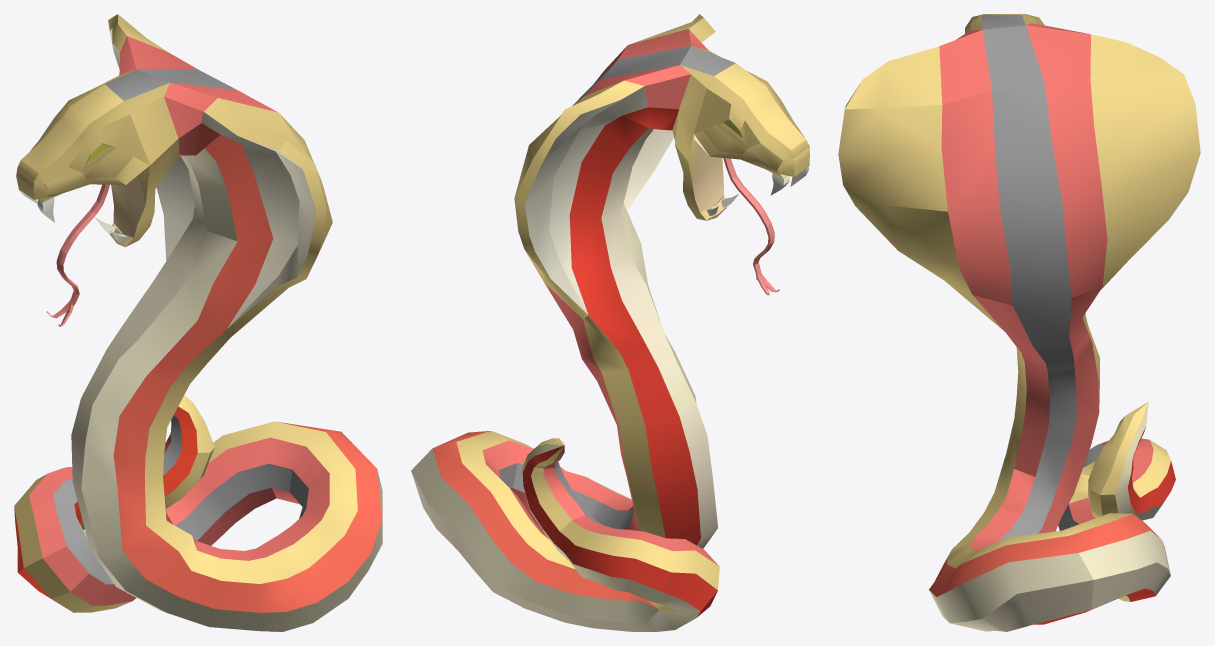
Rendered from cobra.glb.
The picture shows the model from 3 angles, left to right: view 1: azimuth 30°, elevation 25°; view 2: azimuth 150°, elevation 25°; view 3: azimuth 270°, elevation 25°; orthographic projection. The views are drawn at different scales.
Parts seen in each view (by area): view 1: Object_4, Object_13, Object_7, Object_12, Object_2, Object_8, Object_16, Object_11, Object_9, Object_6, Object_5, Object_14 (+2 smaller); view 2: Object_4, Object_15, Object_16, Object_12, Object_7, Object_6, Object_13, Object_2, Object_10, Object_11, Object_9, Object_5 (+3 smaller); view 3: Object_4, Object_12, Object_2, Object_7, Object_16, Object_13, Object_15, Object_10.
Boxes of the visible parts, x1,y1,x2,y2 form: Object_4: (14, 14, 357, 612); Object_13: (113, 123, 381, 612); Object_7: (81, 148, 382, 631); Object_12: (29, 36, 329, 605); Object_2: (53, 69, 308, 584); Object_8: (201, 112, 316, 328); Object_16: (71, 156, 277, 631); Object_11: (17, 70, 169, 184); Object_9: (68, 114, 149, 178); Object_6: (110, 28, 196, 260); Object_5: (110, 166, 149, 244); Object_14: (74, 406, 197, 523); Object_4: (456, 14, 809, 611); Object_15: (522, 107, 717, 617); Object_16: (411, 128, 717, 631); Object_12: (482, 29, 719, 566); Object_7: (411, 203, 696, 622); Object_6: (525, 86, 647, 314); Object_13: (432, 431, 657, 608); Object_2: (498, 46, 735, 529); Object_10: (522, 444, 700, 629); Object_11: (680, 46, 809, 160); Object_9: (694, 88, 784, 153); Object_5: (692, 134, 725, 218); Object_4: (838, 14, 1200, 601); Object_12: (939, 23, 1153, 551); Object_2: (982, 14, 1105, 541); Object_7: (929, 530, 1170, 623); Object_16: (951, 562, 1170, 631); Object_13: (929, 514, 1160, 596); Object_15: (1034, 427, 1175, 624); Object_10: (1115, 402, 1168, 520).
Bounding box in the file's own units: 19.83 × 29.57 × 17.76.
